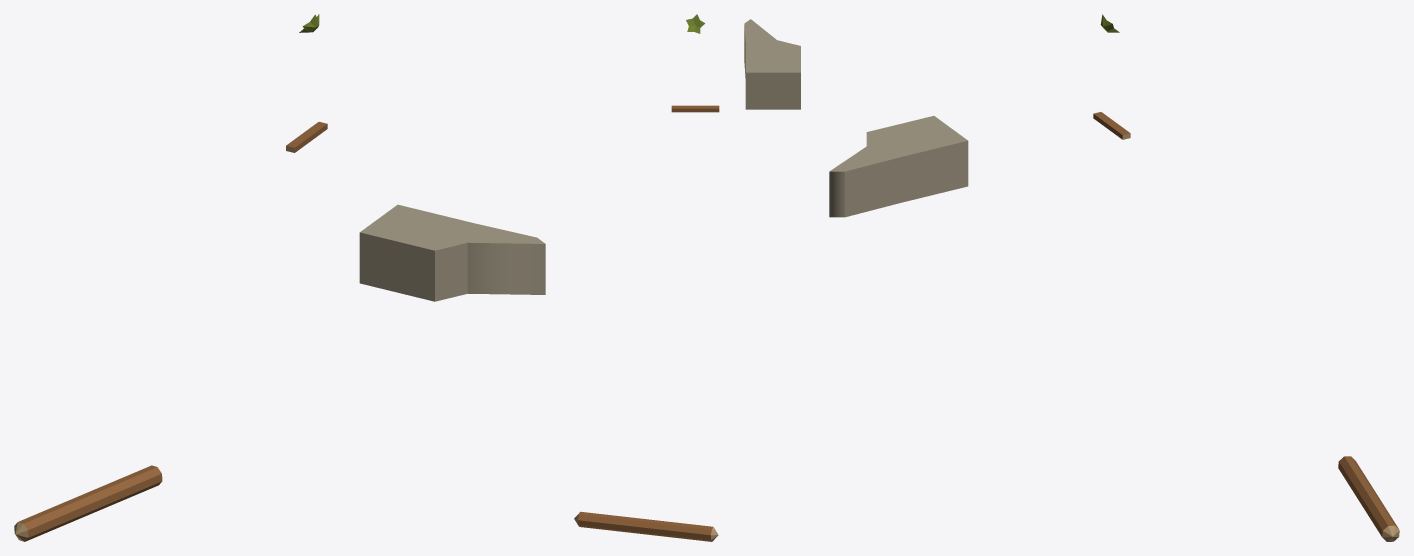
3 renders of one model, left to right at view 1: azimuth 30°, elevation 25°; view 2: azimuth 150°, elevation 25°; view 3: azimuth 270°, elevation 25°, orthographic. The views are drawn at different scales.
Visible parts, largest first — view 1: Box15039_wall3_0, Cylinder1443_brown_0; view 2: Box15039_wall3_0, Cylinder1443_brown_0, Box15621_brown_0; view 3: Box15039_wall3_0, Cylinder1443_brown_0.
Boxes of the visible parts, x1,y1,x2,y2 form: Box15039_wall3_0: (359,204,545,301); Cylinder1443_brown_0: (18,465,162,541); Box15039_wall3_0: (744,19,800,109); Cylinder1443_brown_0: (578,511,712,541); Box15621_brown_0: (671,105,719,112); Box15039_wall3_0: (829,116,968,217); Cylinder1443_brown_0: (1338,456,1398,536).
Size of the model in its own units: 1321 by 3052 by 2990.
